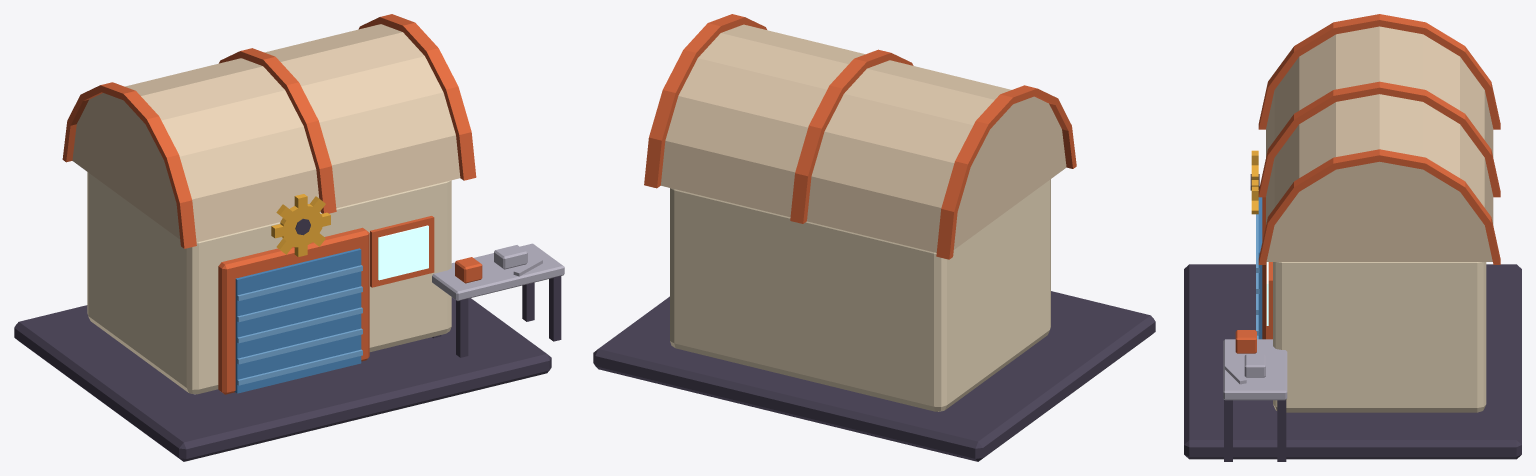
The model's file is MOONSHIFT_FAC_Workshop_Intact.glb.
The picture shows the model from 3 angles, left to right: view 1: azimuth 30°, elevation 25°; view 2: azimuth 150°, elevation 25°; view 3: azimuth 270°, elevation 25°; orthographic projection. The views are drawn at different scales.
Parts seen in each view (by area): view 1: Workshop_Intact_Vault, Workshop_Intact_Slab, Workshop_Intact_Body, Workshop_Intact_Door, Workshop_Intact_DoorFrame, Workshop_Intact_Rib0, Workshop_Intact_Rib2, Workshop_Intact_Rib1, Workshop_Intact_BenchTop, Workshop_Intact_Window, Workshop_Intact_WindowFrame, Workshop_Intact_SignGear_Disk (+9 smaller); view 2: Workshop_Intact_Body, Workshop_Intact_Vault, Workshop_Intact_Slab, Workshop_Intact_Rib0, Workshop_Intact_Rib1, Workshop_Intact_Rib2; view 3: Workshop_Intact_Vault, Workshop_Intact_Body, Workshop_Intact_Slab, Workshop_Intact_Rib1, Workshop_Intact_Rib0, Workshop_Intact_Rib2, Workshop_Intact_BenchTop, Workshop_Intact_Door, Workshop_Intact_BenchLeg3, Workshop_Intact_DoorFrame, Workshop_Intact_BenchLeg1, Workshop_Intact_Part (+2 smaller).
Part boxes in pixels (x1,y1,x2,y2): Workshop_Intact_Vault: (72, 24, 460, 242); Workshop_Intact_Slab: (14, 297, 551, 461); Workshop_Intact_Body: (87, 172, 451, 394); Workshop_Intact_Door: (234, 248, 361, 393); Workshop_Intact_DoorFrame: (218, 227, 369, 394); Workshop_Intact_Rib0: (62, 82, 196, 248); Workshop_Intact_Rib2: (358, 14, 476, 180); Workshop_Intact_Rib1: (219, 48, 336, 213); Workshop_Intact_BenchTop: (432, 243, 564, 300); Workshop_Intact_Window: (378, 225, 428, 280); Workshop_Intact_WindowFrame: (370, 216, 434, 287); Workshop_Intact_SignGear_Disk: (280, 204, 322, 247); Workshop_Intact_Body: (670, 179, 1050, 411); Workshop_Intact_Vault: (661, 24, 1066, 252); Workshop_Intact_Slab: (593, 291, 1155, 461); Workshop_Intact_Rib0: (936, 85, 1076, 259); Workshop_Intact_Rib1: (790, 49, 913, 223); Workshop_Intact_Rib2: (644, 14, 766, 188); Workshop_Intact_Vault: (1266, 26, 1493, 261); Workshop_Intact_Body: (1273, 262, 1486, 412); Workshop_Intact_Slab: (1184, 264, 1521, 459); Workshop_Intact_Rib1: (1258, 81, 1500, 197); Workshop_Intact_Rib0: (1258, 14, 1500, 129); Workshop_Intact_Rib2: (1258, 149, 1500, 264); Workshop_Intact_BenchTop: (1223, 339, 1287, 400); Workshop_Intact_Door: (1258, 197, 1262, 339); Workshop_Intact_BenchLeg3: (1277, 400, 1286, 461); Workshop_Intact_DoorFrame: (1262, 197, 1272, 339); Workshop_Intact_BenchLeg1: (1224, 400, 1232, 461); Workshop_Intact_Part: (1244, 354, 1265, 377).
Bounding box in the file's own units: 2.6 × 1.78 × 1.9.
